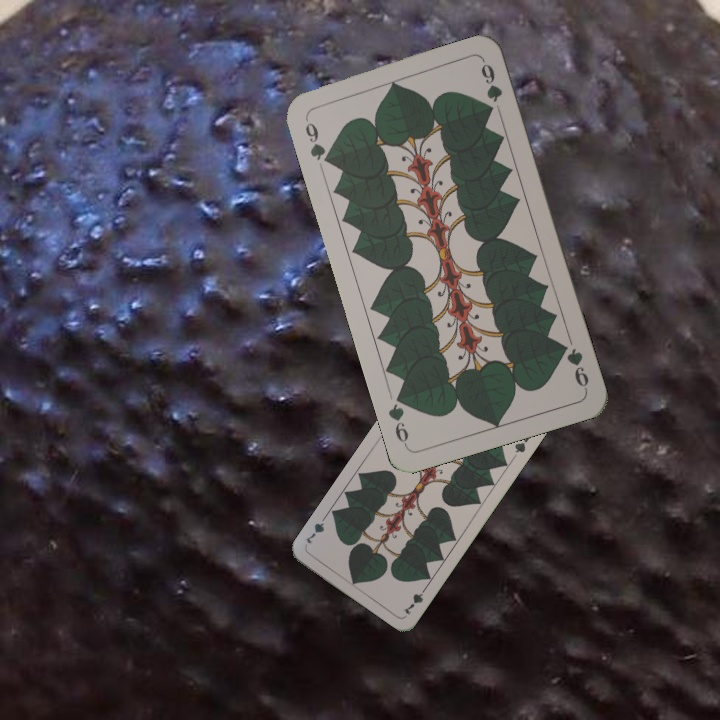G7: (399, 582, 430, 617)
G9: (556, 339, 592, 393), (300, 113, 334, 167)
